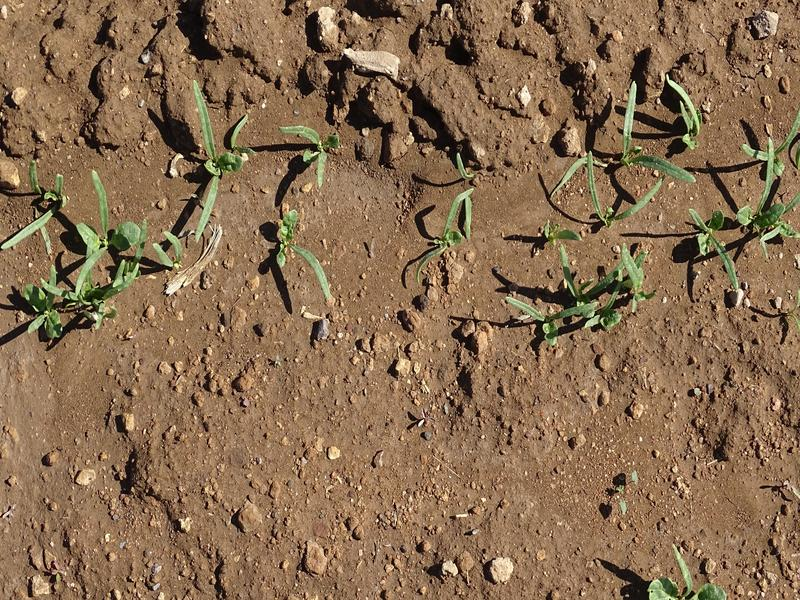Espinaca: (17, 177, 147, 334), (555, 82, 707, 213), (521, 238, 650, 349), (190, 84, 246, 228), (743, 133, 800, 247), (276, 211, 336, 305), (279, 118, 348, 196), (426, 185, 484, 276), (697, 212, 753, 298), (155, 233, 191, 278)
